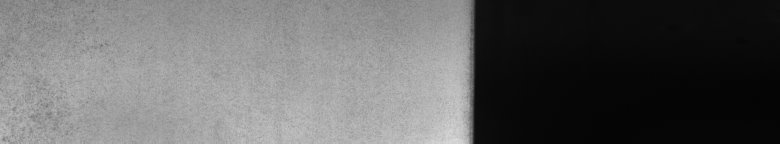ib: (9, 41, 109, 136)
